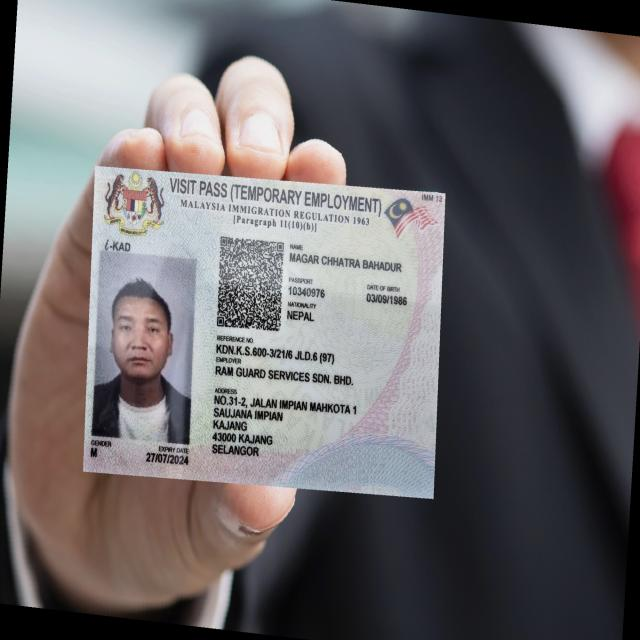ikad-temp: (82, 165, 446, 500)
